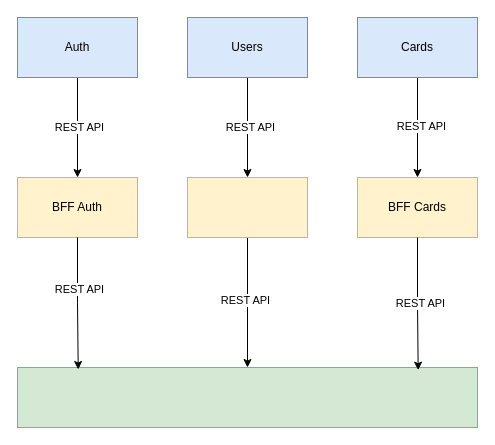
Some shapes in this 495 by 445 pixel diagram are drawn without their labels. The centre of each missing label's shape, as x and y in pixels:
BACKEND: point (247, 397)
BFF Users: point (247, 207)
